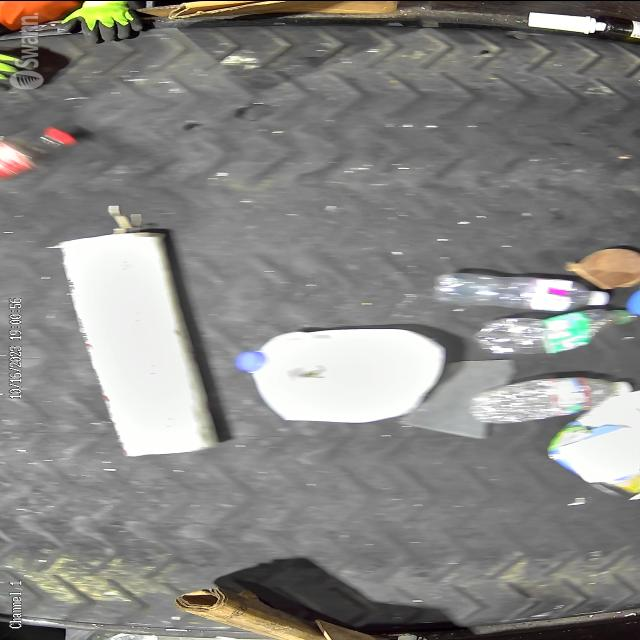milk_jug: (235, 328, 446, 423)
plastic_bottle: (466, 376, 632, 422), (432, 270, 608, 312), (474, 307, 634, 353)
